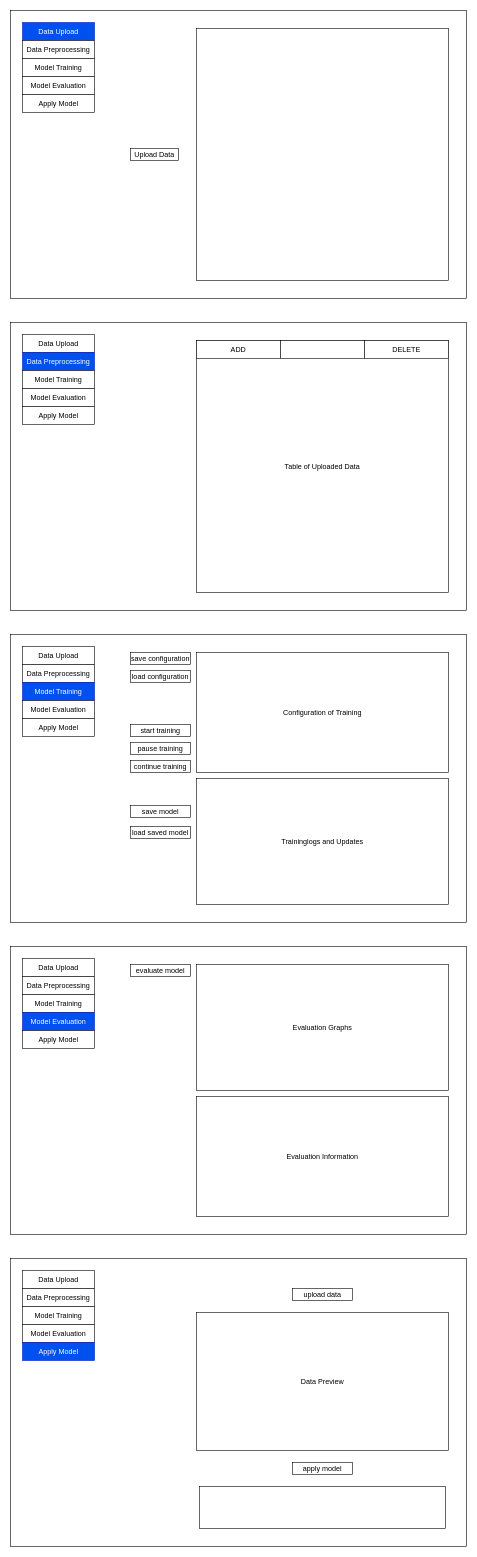
Image size: 477x1557. Some labels were removed from this diagram. Each missing label, with the centre of its shape:
Result: point (322, 1507)
Table of Uploaded Data for Review: point (322, 154)
UPDATE: point (322, 349)
